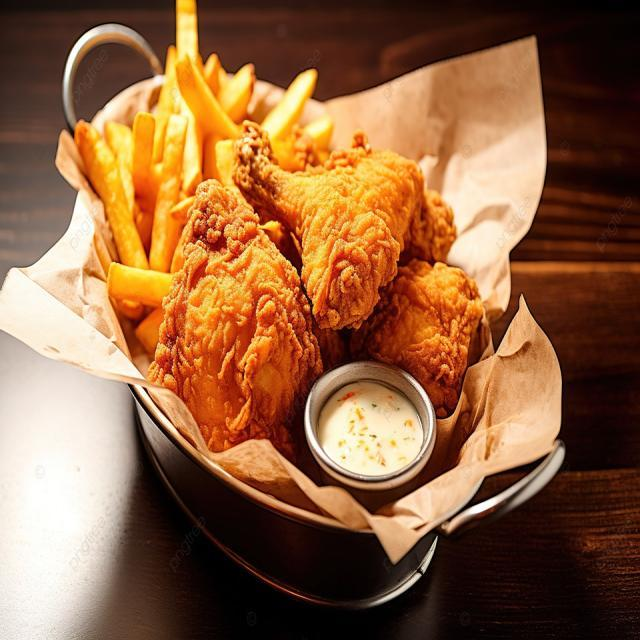ga ran va khoai tay chien: (55, 0, 492, 512)
khoai tay chien: (57, 0, 343, 354)
thit ga: (146, 176, 332, 466), (233, 118, 428, 329), (373, 271, 494, 414)
